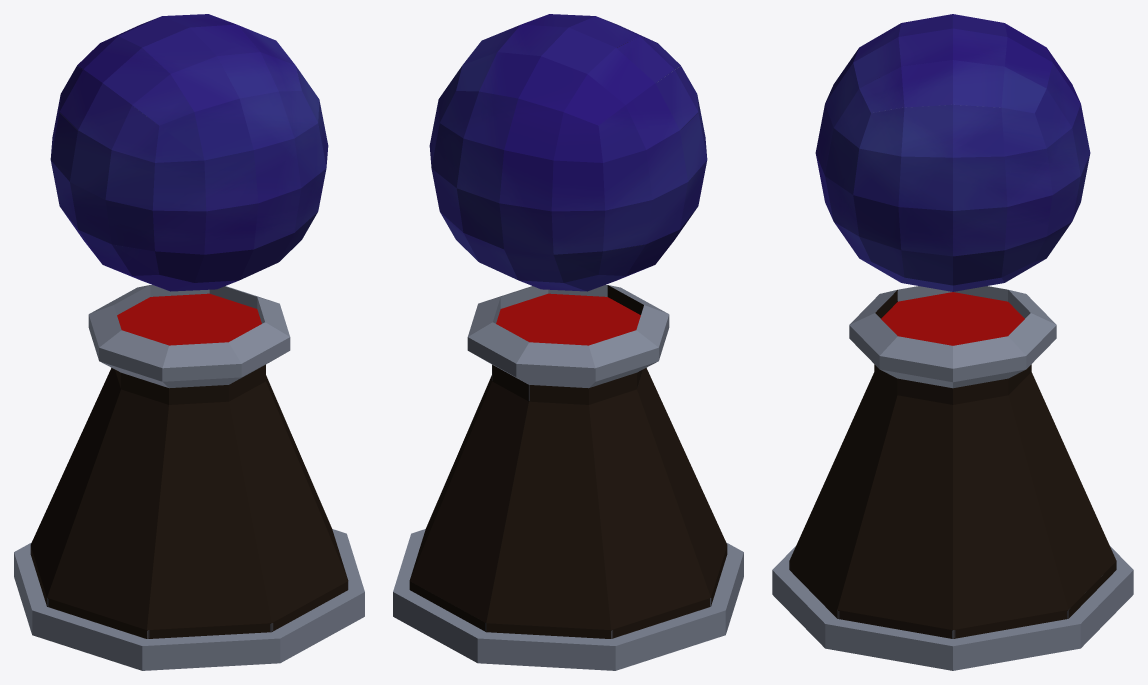
File: crystal-ball.glb
The picture shows the model from 3 angles, left to right: view 1: azimuth 30°, elevation 25°; view 2: azimuth 150°, elevation 25°; view 3: azimuth 270°, elevation 25°; orthographic projection.
Visible parts, largest first — view 1: Cylinder, Cube; view 2: Cylinder, Cube; view 3: Cylinder, Cube.
Boxes of the visible parts, x1=… form: Cylinder: x1=14, y1=285, x2=364, y2=670; Cube: x1=50, y1=14, x2=328, y2=291; Cylinder: x1=393, y1=285, x2=743, y2=670; Cube: x1=429, y1=14, x2=707, y2=291; Cylinder: x1=772, y1=286, x2=1133, y2=670; Cube: x1=815, y1=14, x2=1090, y2=291.
Bounding box in the file's own units: 2.21 × 3.82 × 2.21.
1 material, 1 textured.
